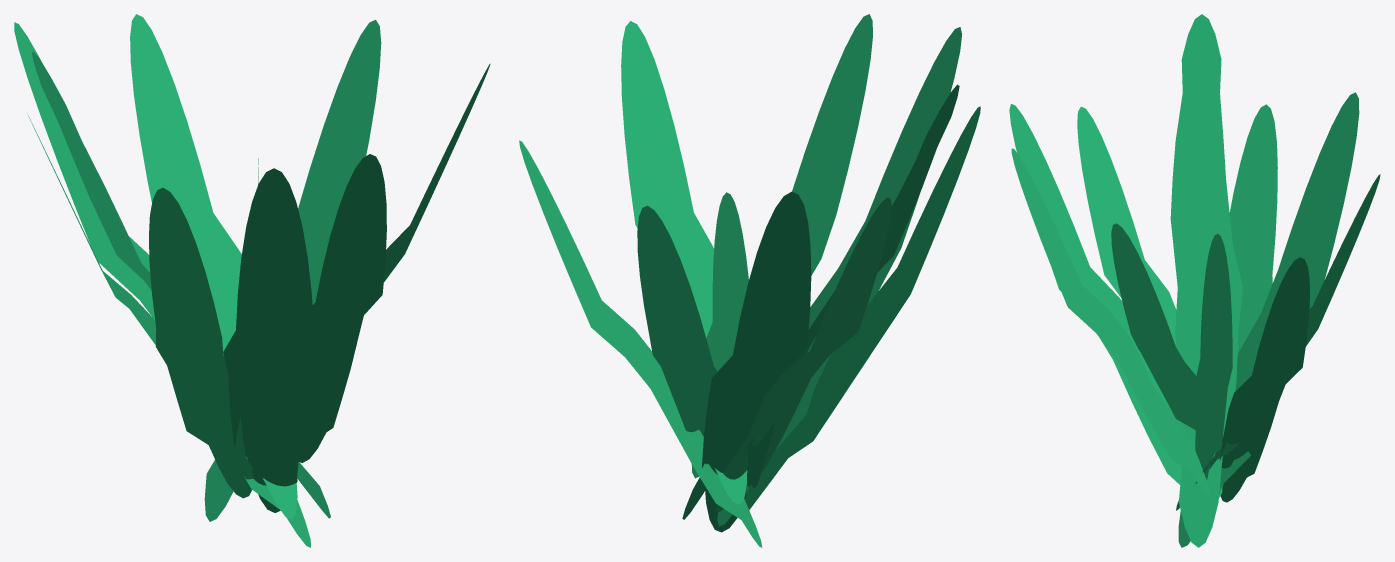
Rendered from onkruidzonderbloemen.fbx.
3 views of the same model, side by side, from view 1: azimuth 30°, elevation 25°; view 2: azimuth 150°, elevation 25°; view 3: azimuth 270°, elevation 25° (orthographic). The views are drawn at different scales.
Parts seen in each view (by area): view 1: Circle.031, Circle.029, Circle.001, Circle.002, Circle.030, Circle.003, Circle, Circle.033, Circle.028; view 2: Circle.003, Circle.033, Circle.029, Circle.002, Circle.001, Circle.028, Circle.030, Circle.031, Circle.032, Circle; view 3: Circle, Circle.030, Circle.003, Circle.001, Circle.028, Circle.033, Circle.031, Circle.029, Circle.032, Circle.002.
Boxes of the visible parts, x1=… form: Circle.031: x1=223, y1=168, x2=314, y2=512; Circle.029: x1=149, y1=187, x2=253, y2=498; Circle.001: x1=298, y1=154, x2=386, y2=462; Circle.002: x1=130, y1=14, x2=297, y2=519; Circle.030: x1=204, y1=19, x2=381, y2=521; Circle.003: x1=14, y1=22, x2=310, y2=547; Circle: x1=32, y1=51, x2=330, y2=518; Circle.033: x1=383, y1=63, x2=490, y2=282; Circle.028: x1=27, y1=113, x2=247, y2=459; Circle.003: x1=702, y1=191, x2=811, y2=532; Circle.033: x1=621, y1=21, x2=747, y2=504; Circle.029: x1=744, y1=106, x2=980, y2=511; Circle.002: x1=637, y1=205, x2=717, y2=436; Circle.001: x1=691, y1=14, x2=872, y2=478; Circle.028: x1=716, y1=197, x2=891, y2=511; Circle.030: x1=519, y1=140, x2=762, y2=547; Circle.031: x1=717, y1=27, x2=961, y2=526; Circle.032: x1=706, y1=192, x2=748, y2=371; Circle: x1=682, y1=84, x2=959, y2=519; Circle: x1=1170, y1=14, x2=1242, y2=547; Circle.030: x1=1219, y1=257, x2=1309, y2=502; Circle.003: x1=1178, y1=92, x2=1359, y2=547; Circle.001: x1=1011, y1=148, x2=1210, y2=497; Circle.028: x1=1219, y1=104, x2=1277, y2=494; Circle.033: x1=1111, y1=223, x2=1227, y2=454; Circle.031: x1=1009, y1=104, x2=1181, y2=484; Circle.029: x1=1077, y1=106, x2=1222, y2=497; Circle.032: x1=1195, y1=234, x2=1232, y2=479; Circle.002: x1=1176, y1=174, x2=1380, y2=510.
Bounding box in the file's own units: 192 × 249 × 194.
